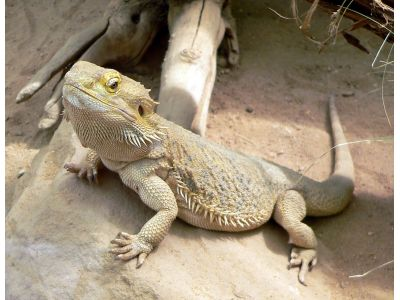bearded: (61, 59, 358, 287)
